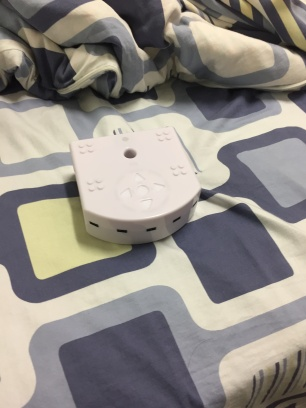thymio: (62, 126, 207, 243)
